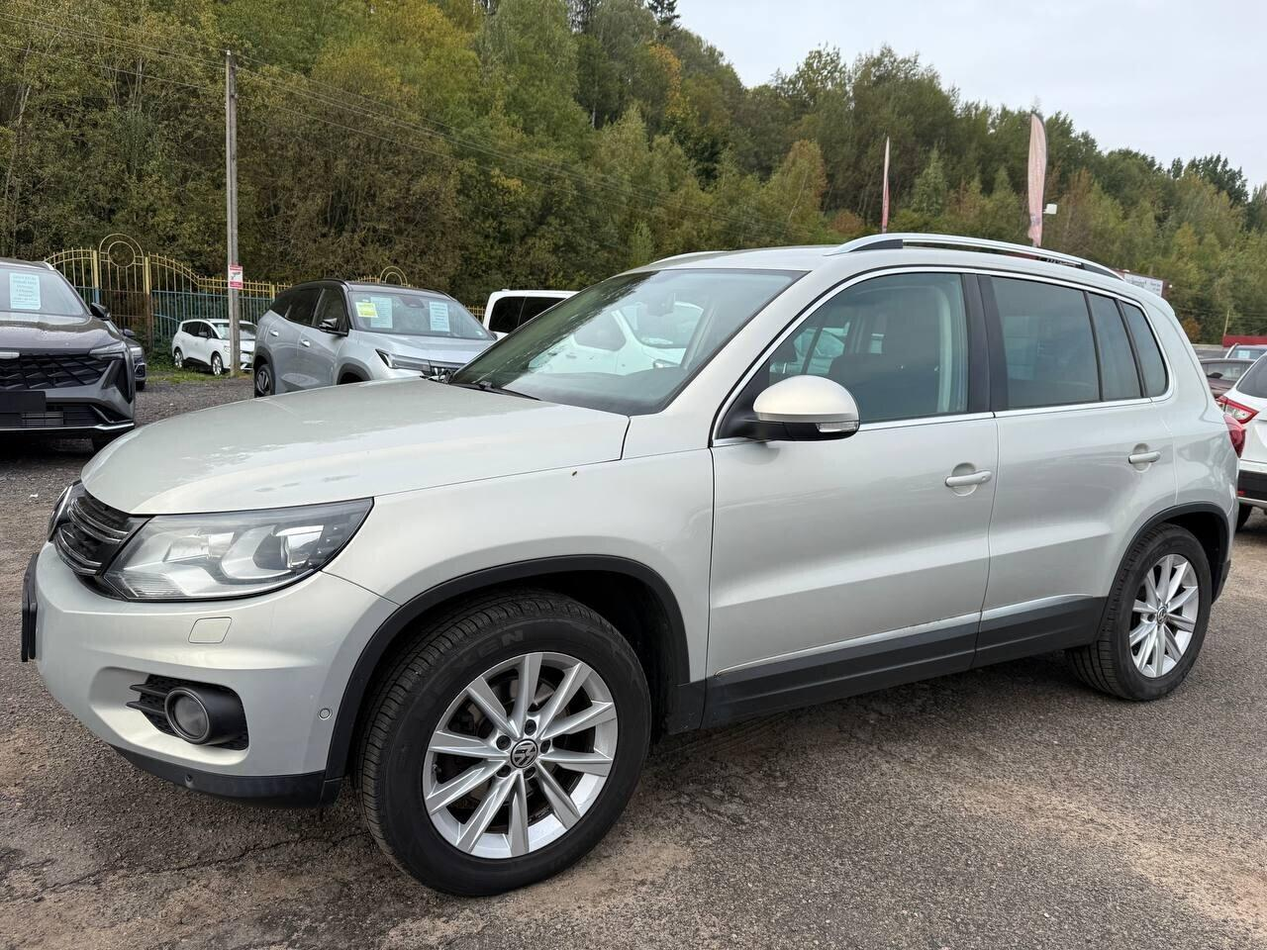Tiguan_2011-2018: (25, 228, 1236, 901)
